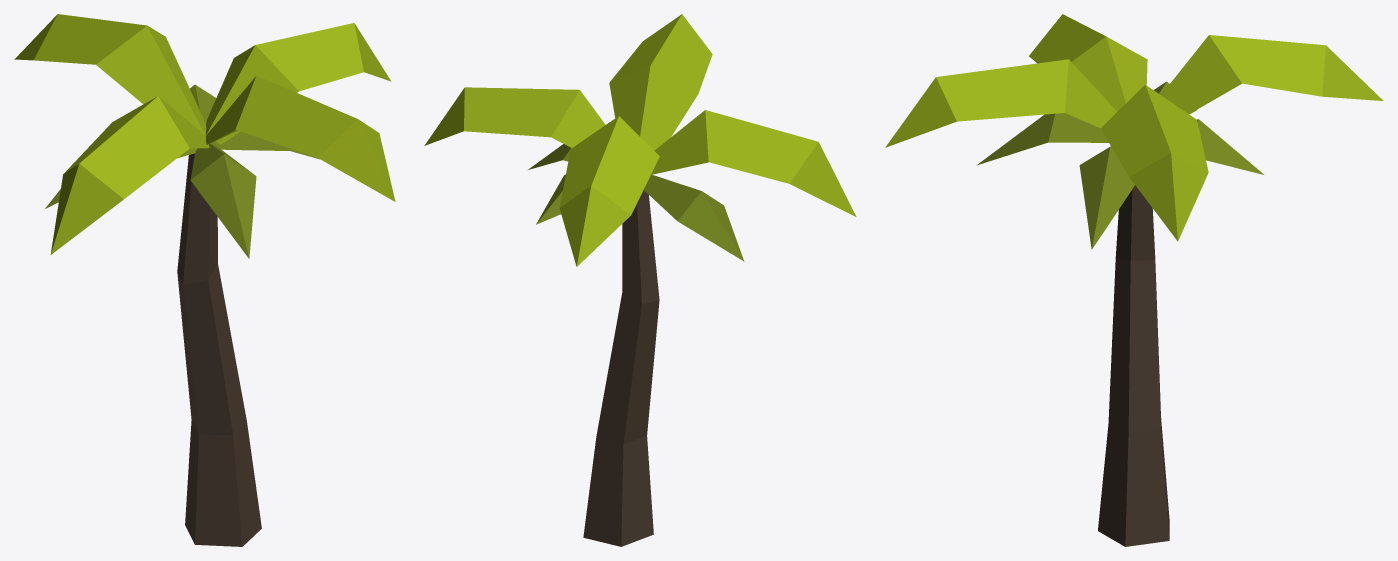
The model's file is TB_D_Env_Tree_PalmC_A.FBX.
3 views of the same model, side by side, from view 1: azimuth 30°, elevation 25°; view 2: azimuth 150°, elevation 25°; view 3: azimuth 270°, elevation 25° (orthographic). The views are drawn at different scales.
Visible parts, largest first — view 1: TB_D_Env_Tree_PalmC_A; view 2: TB_D_Env_Tree_PalmC_A; view 3: TB_D_Env_Tree_PalmC_A.
Boxes of the visible parts, x1,y1,x2,y2 form: TB_D_Env_Tree_PalmC_A: (14, 14, 395, 546); TB_D_Env_Tree_PalmC_A: (424, 14, 856, 546); TB_D_Env_Tree_PalmC_A: (885, 14, 1383, 546).
Size of the model in its own units: 2.78 by 3.2 by 3.03.
